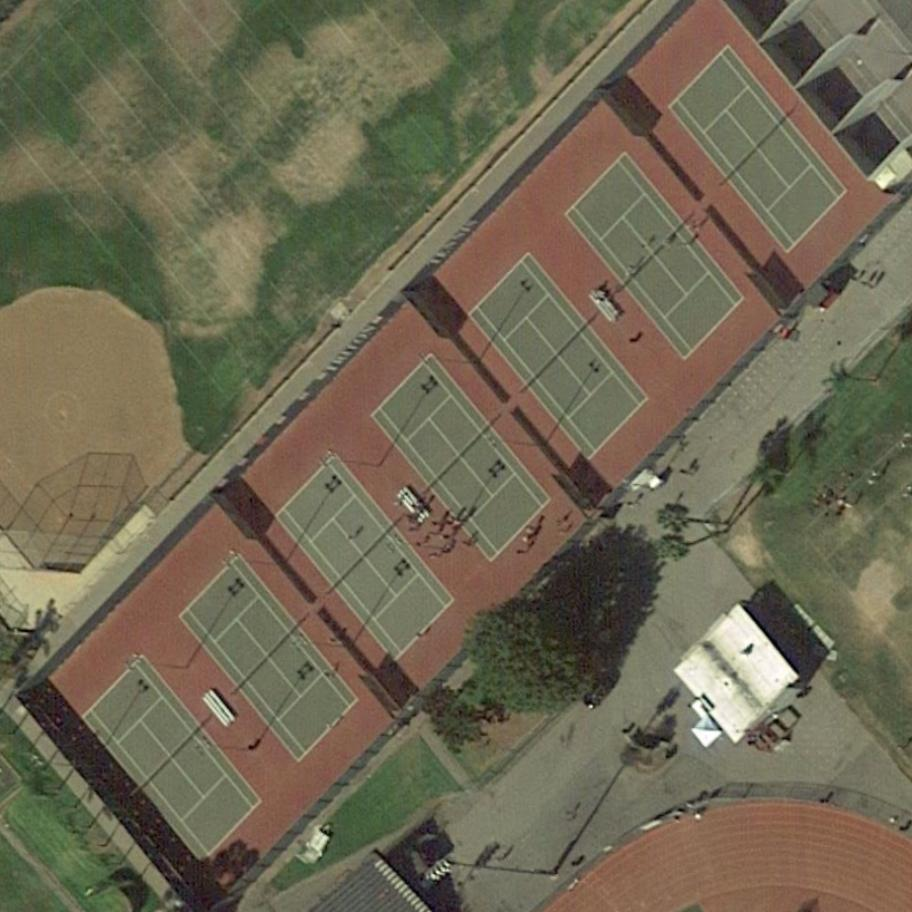small-vehicle: (580, 658, 631, 711)
